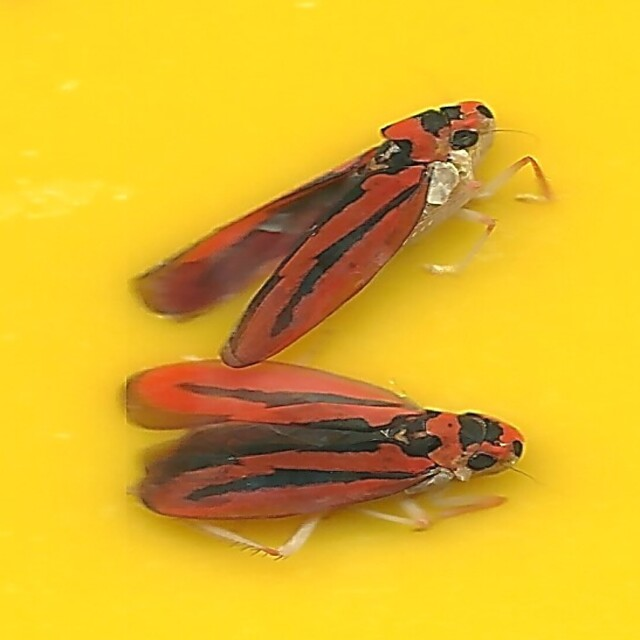Hemiptera: (135, 94, 502, 365), (117, 362, 523, 546)
